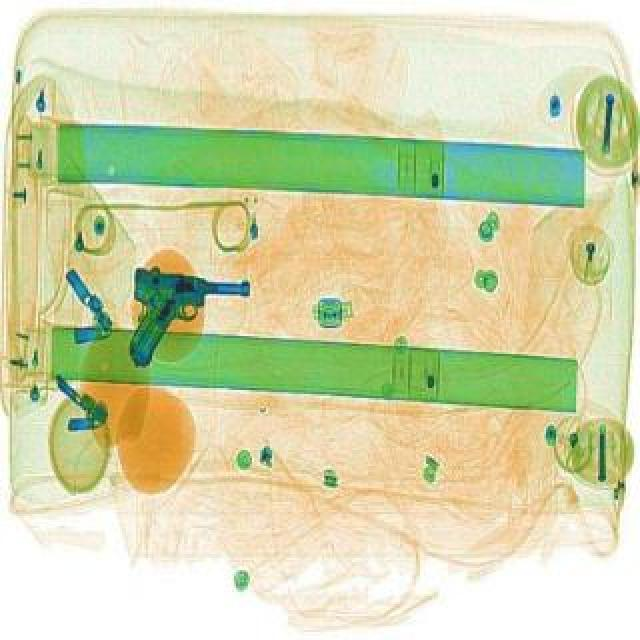gun: (124, 264, 252, 372)
